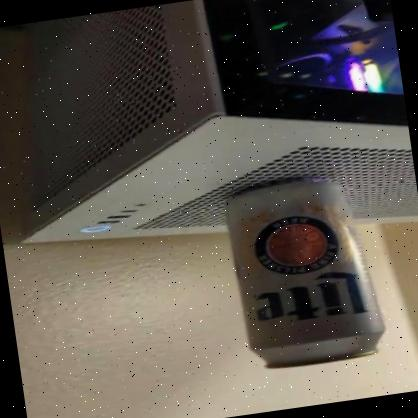can: (222, 174, 391, 378)
